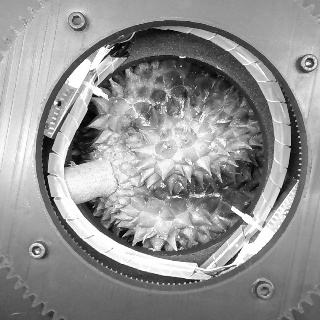base: (91, 151, 123, 198)
